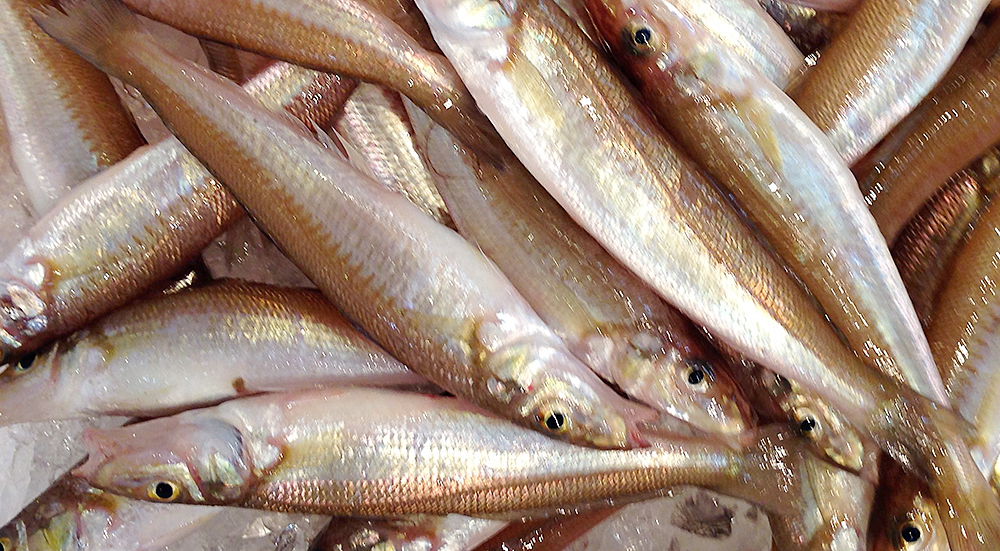kiss: (45, 2, 629, 445), (70, 393, 807, 532)
